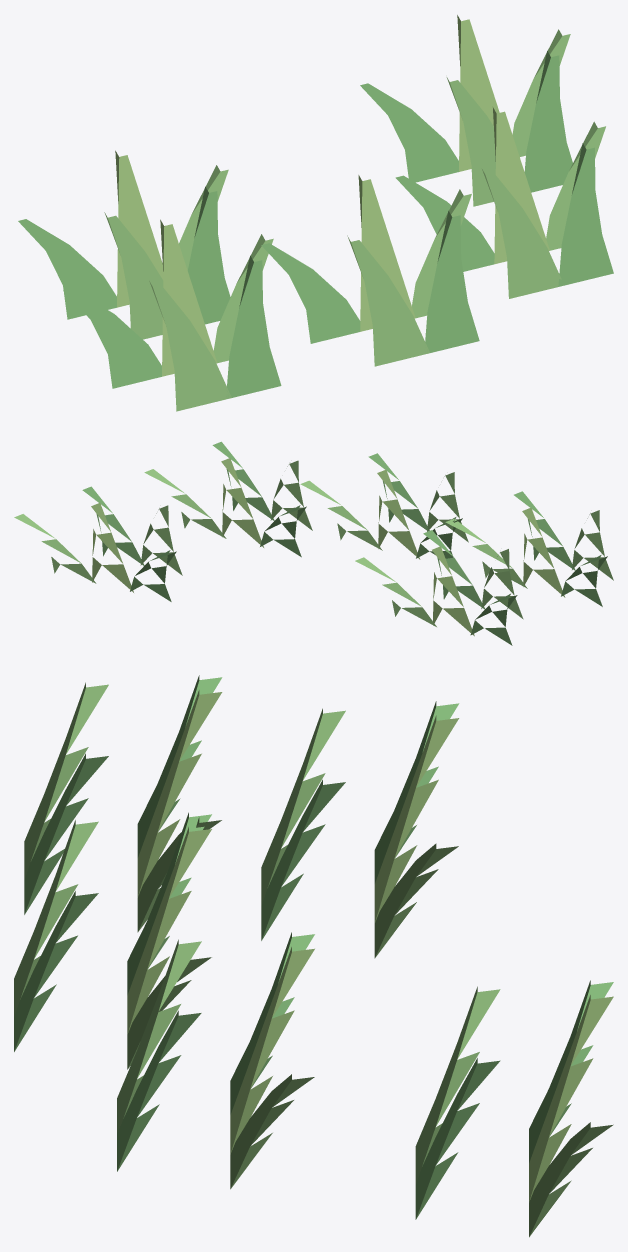
The model's file is grass_patch.glb.
3 renders of one model, top to bottom at view 1: azimuth 30°, elevation 25°; view 2: azimuth 150°, elevation 25°; view 3: azimuth 270°, elevation 25°, orthographic. The views are drawn at different scales.
Parts seen in each view (by area): view 1: grass_patch_08_blade, grass_patch_23_blade, grass_patch_13_blade, grass_patch_11_blade, grass_patch_21_blade, grass_patch_06_blade, grass_patch_18_blade, grass_patch_10_blade, grass_patch_20_blade, grass_patch_15_blade, grass_patch_03_blade, grass_patch_01_blade (+13 smaller); view 2: grass_patch_17_blade, grass_patch_07_blade, grass_patch_12_blade, grass_patch_22_blade, grass_patch_02_blade, grass_patch_23_blade, grass_patch_18_blade, grass_patch_03_blade, grass_patch_08_blade, grass_patch_13_blade, grass_patch_04_blade, grass_patch_14_blade (+13 smaller); view 3: grass_patch_02_blade, grass_patch_22_blade, grass_patch_07_blade, grass_patch_12_blade, grass_patch_17_blade, grass_patch_16_blade, grass_patch_21_blade, grass_patch_01_blade, grass_patch_18_blade, grass_patch_11_blade, grass_patch_03_blade, grass_patch_06_blade (+13 smaller).
Boxes of the visible parts, x1=… form: grass_patch_08_blade: x1=558, y1=143, x2=613, y2=286; grass_patch_23_blade: x1=226, y1=255, x2=281, y2=398; grass_patch_13_blade: x1=425, y1=210, x2=479, y2=352; grass_patch_11_blade: x1=347, y1=235, x2=429, y2=366; grass_patch_21_blade: x1=149, y1=281, x2=231, y2=411; grass_patch_06_blade: x1=482, y1=169, x2=561, y2=298; grass_patch_18_blade: x1=524, y1=51, x2=572, y2=192; grass_patch_10_blade: x1=261, y1=243, x2=360, y2=343; grass_patch_20_blade: x1=63, y1=288, x2=161, y2=388; grass_patch_15_blade: x1=360, y1=83, x2=458, y2=182; grass_patch_03_blade: x1=187, y1=186, x2=230, y2=324; grass_patch_01_blade: x1=104, y1=212, x2=163, y2=339; grass_patch_17_blade: x1=91, y1=503, x2=133, y2=592; grass_patch_07_blade: x1=221, y1=458, x2=263, y2=547; grass_patch_12_blade: x1=377, y1=469, x2=420, y2=559; grass_patch_22_blade: x1=522, y1=507, x2=565, y2=597; grass_patch_02_blade: x1=432, y1=546, x2=474, y2=636; grass_patch_23_blade: x1=514, y1=491, x2=575, y2=570; grass_patch_18_blade: x1=82, y1=486, x2=144, y2=565; grass_patch_03_blade: x1=423, y1=530, x2=484, y2=609; grass_patch_08_blade: x1=212, y1=441, x2=274, y2=520; grass_patch_13_blade: x1=368, y1=453, x2=429, y2=531; grass_patch_04_blade: x1=355, y1=557, x2=436, y2=626; grass_patch_14_blade: x1=300, y1=480, x2=382, y2=550; grass_patch_02_blade: x1=374, y1=715, x2=459, y2=922; grass_patch_22_blade: x1=137, y1=690, x2=222, y2=897; grass_patch_07_blade: x1=230, y1=947, x2=314, y2=1154; grass_patch_12_blade: x1=127, y1=827, x2=211, y2=1034; grass_patch_17_blade: x1=529, y1=995, x2=613, y2=1202; grass_patch_16_blade: x1=415, y1=986, x2=500, y2=1184; grass_patch_21_blade: x1=24, y1=682, x2=108, y2=879; grass_patch_01_blade: x1=261, y1=708, x2=345, y2=905; grass_patch_18_blade: x1=415, y1=1058, x2=500, y2=1219; grass_patch_11_blade: x1=14, y1=820, x2=98, y2=1016; grass_patch_03_blade: x1=261, y1=779, x2=345, y2=940; grass_patch_06_blade: x1=117, y1=939, x2=201, y2=1133.
Size of the model in its own units: 2.08 by 0.4 by 1.17.
